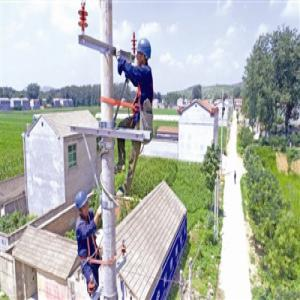blue: (135, 37, 154, 69), (76, 189, 90, 220)
